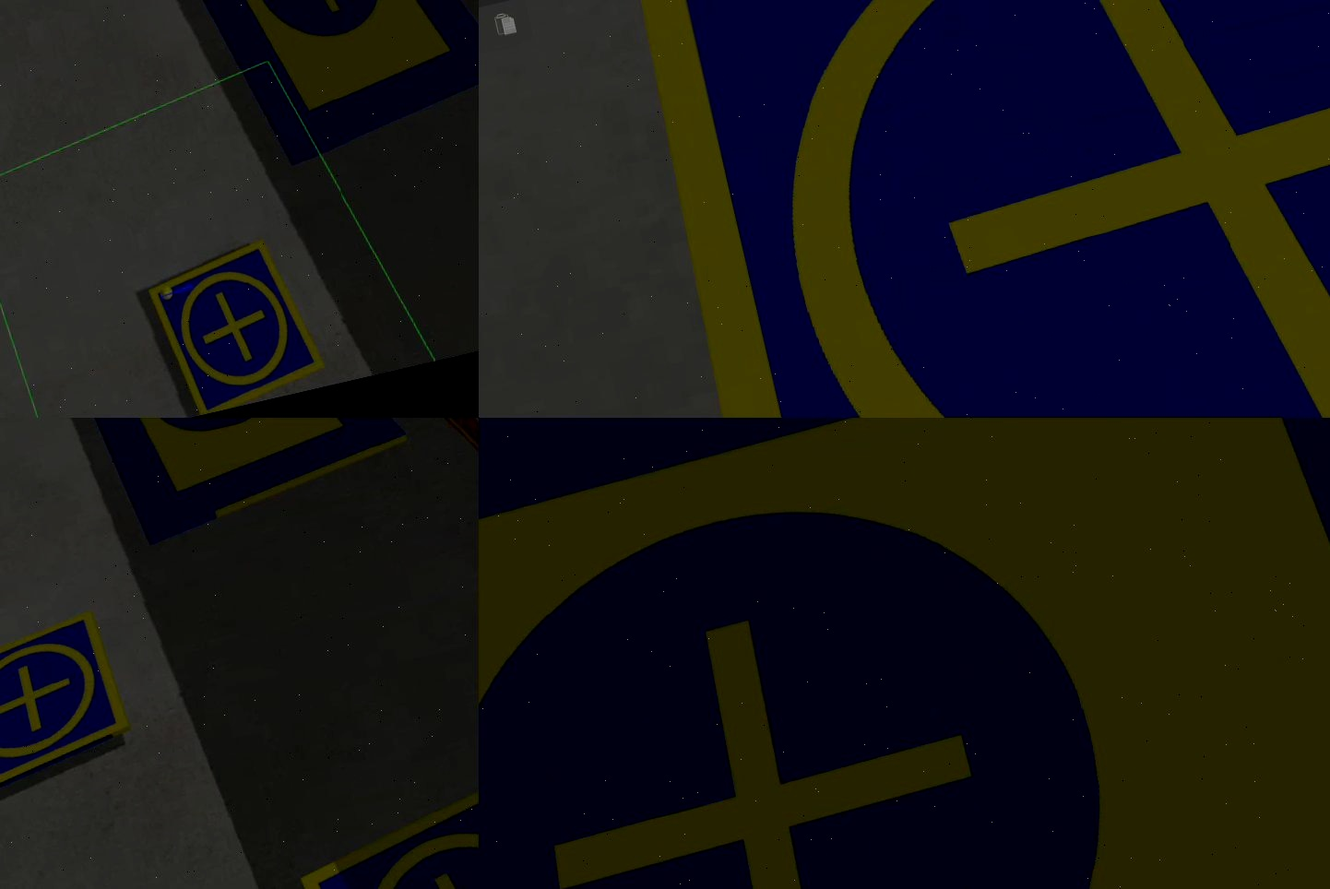large_base: (480, 419, 1330, 889), (139, 1, 480, 180), (79, 419, 421, 553)
small_base: (595, 1, 1330, 419), (143, 232, 331, 419), (1, 605, 141, 809), (286, 747, 480, 889)
